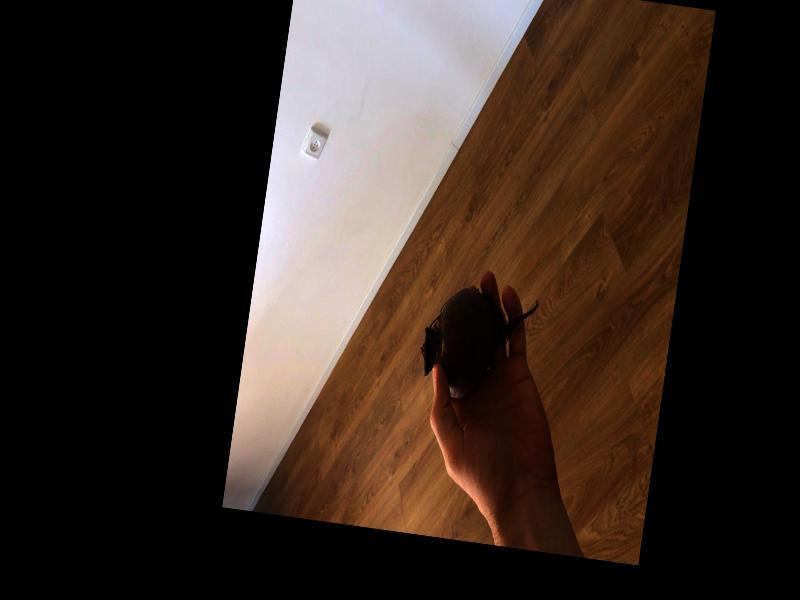Beet: (417, 280, 540, 407)
